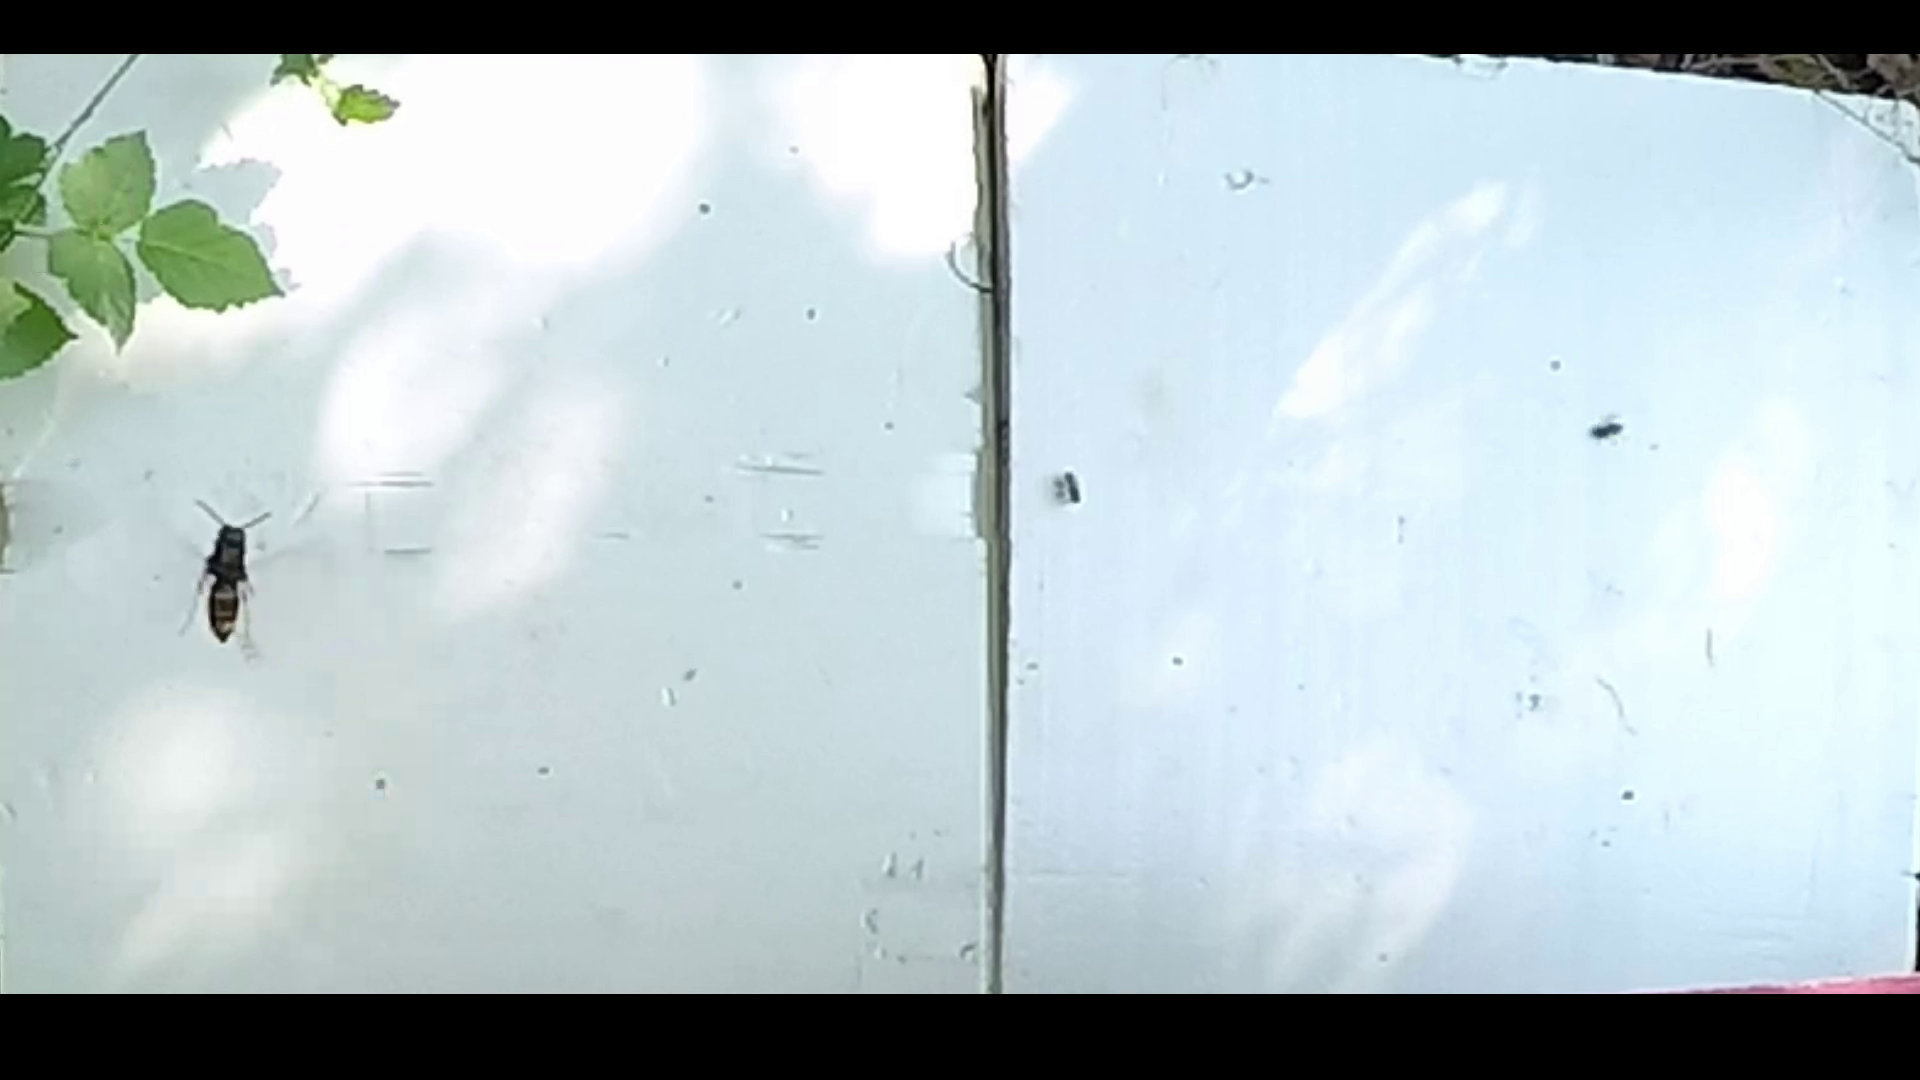Asian_hornets: (160, 493, 282, 658)
